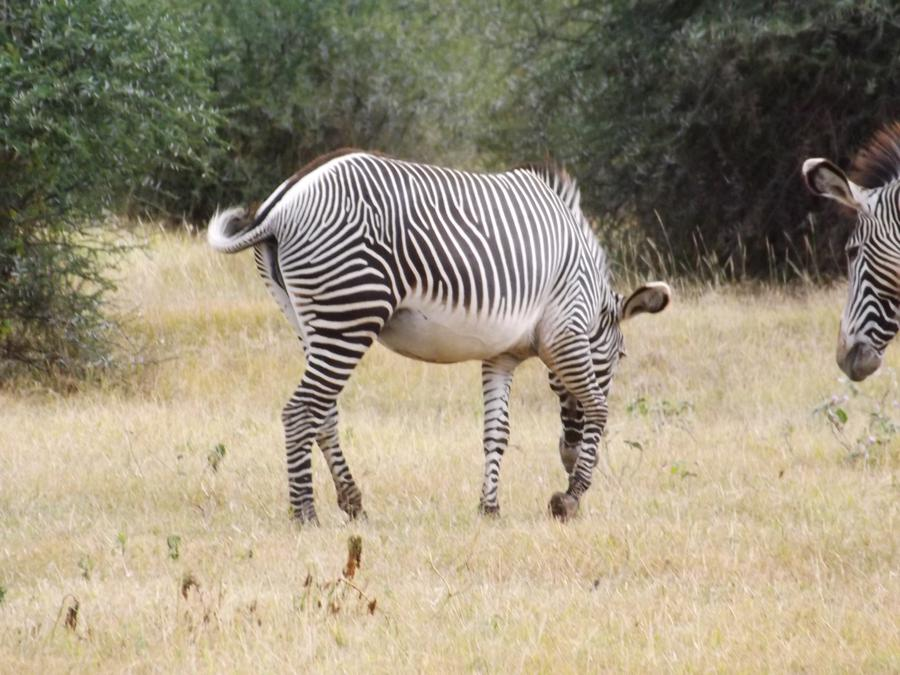zebra_grevys: (273, 152, 597, 363)
